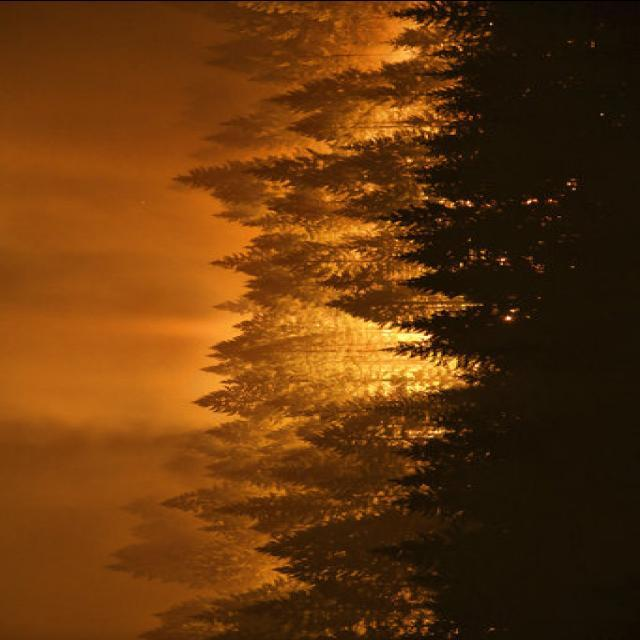Fire: (265, 275, 471, 407)
